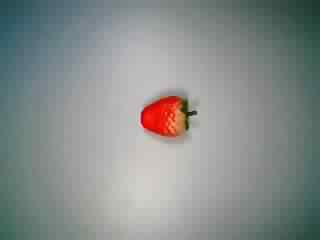strawberry: (134, 88, 203, 145)
